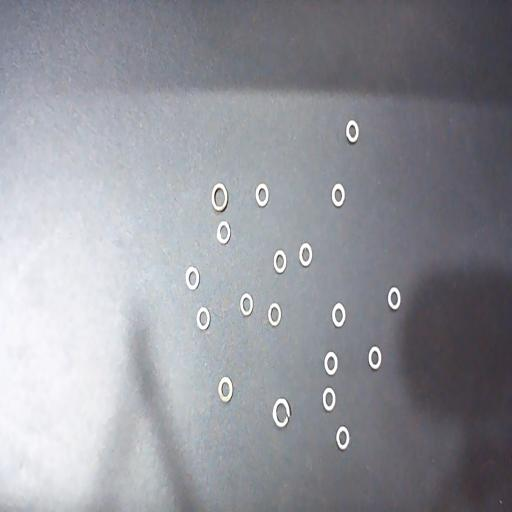washer: (272, 398, 291, 428), (211, 182, 228, 212), (218, 377, 233, 403), (185, 266, 200, 291), (299, 242, 312, 268), (332, 303, 346, 327), (196, 307, 210, 331), (255, 184, 269, 208), (273, 250, 287, 274), (324, 351, 337, 376), (336, 426, 349, 450), (217, 220, 230, 244), (332, 184, 345, 208), (268, 303, 281, 326), (346, 120, 359, 143), (323, 388, 335, 412), (369, 346, 381, 370), (240, 293, 253, 315), (388, 287, 400, 310)
